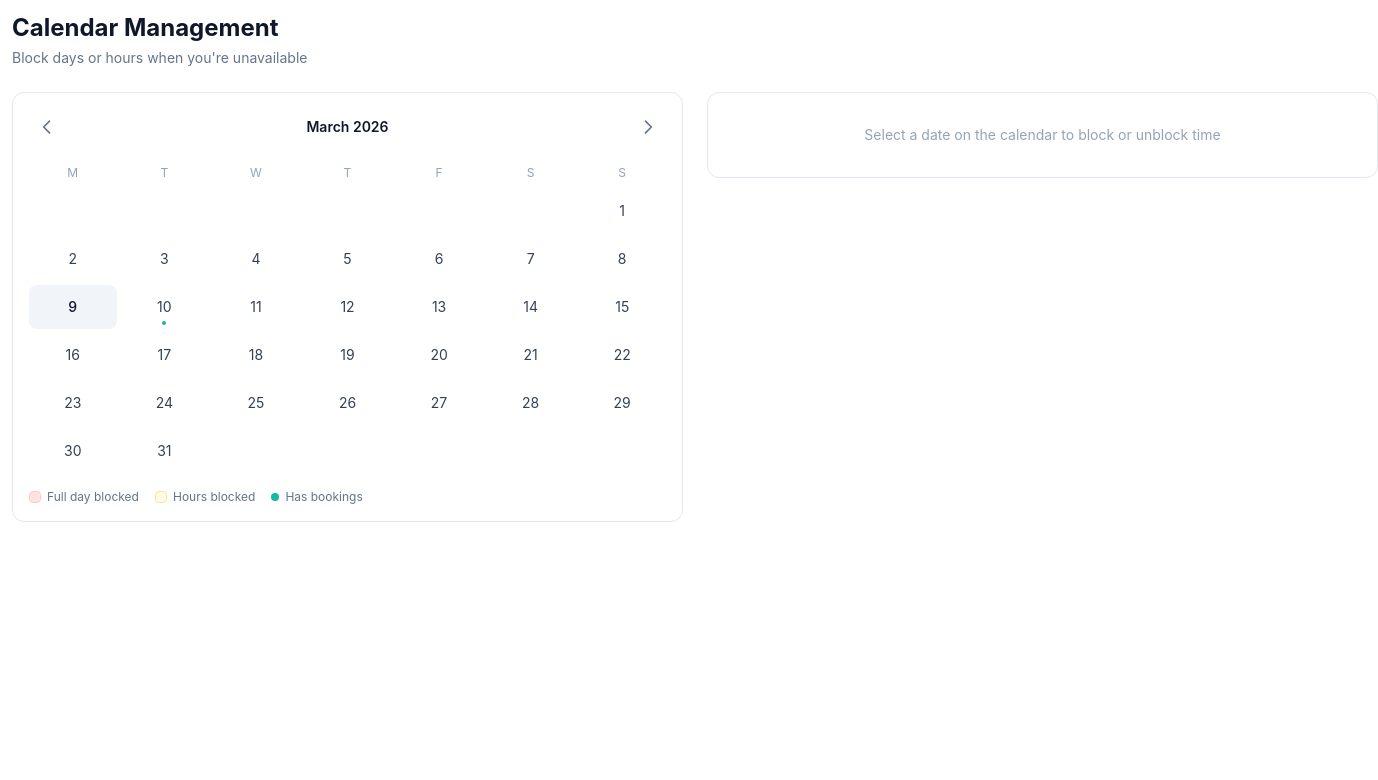
Test: Calendar Page › shows bookings section when selecting a date with bookings
The width and height of the screenshot is (1378, 780).
Expected: the heading "Calendar Management" is shown, 12,13 -> 278,42
Click the button "10".
click(164, 307)  # box 121,285 -> 208,329
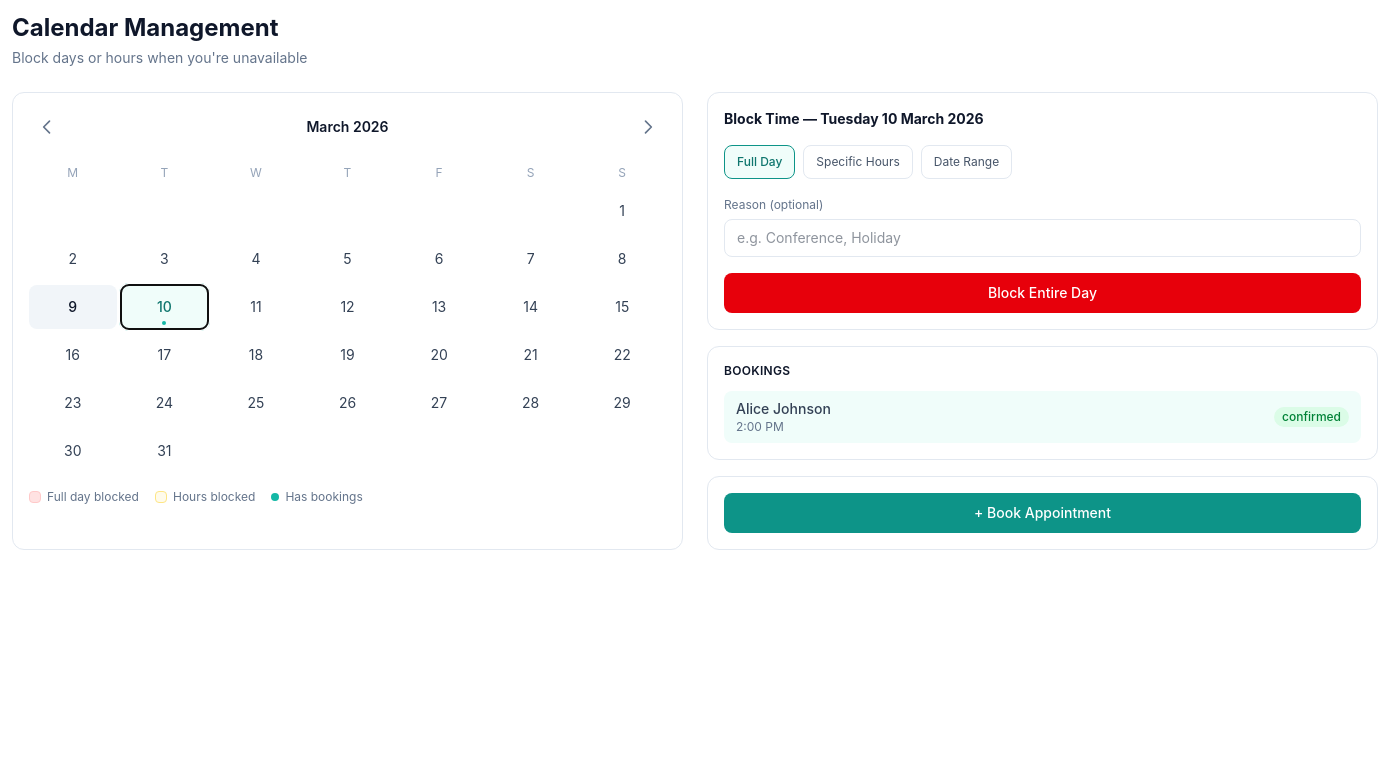
Now the heading "Bookings" is shown, box 724,363 -> 790,378
Now the text "Alice Johnson" is shown, box 736,399 -> 831,419
Now the text "2:00 PM" is shown, box 736,419 -> 784,434
